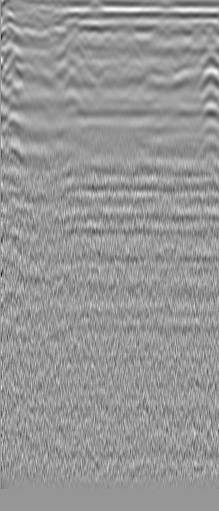오수: (17, 10, 55, 39)
우수: (179, 38, 199, 58)
